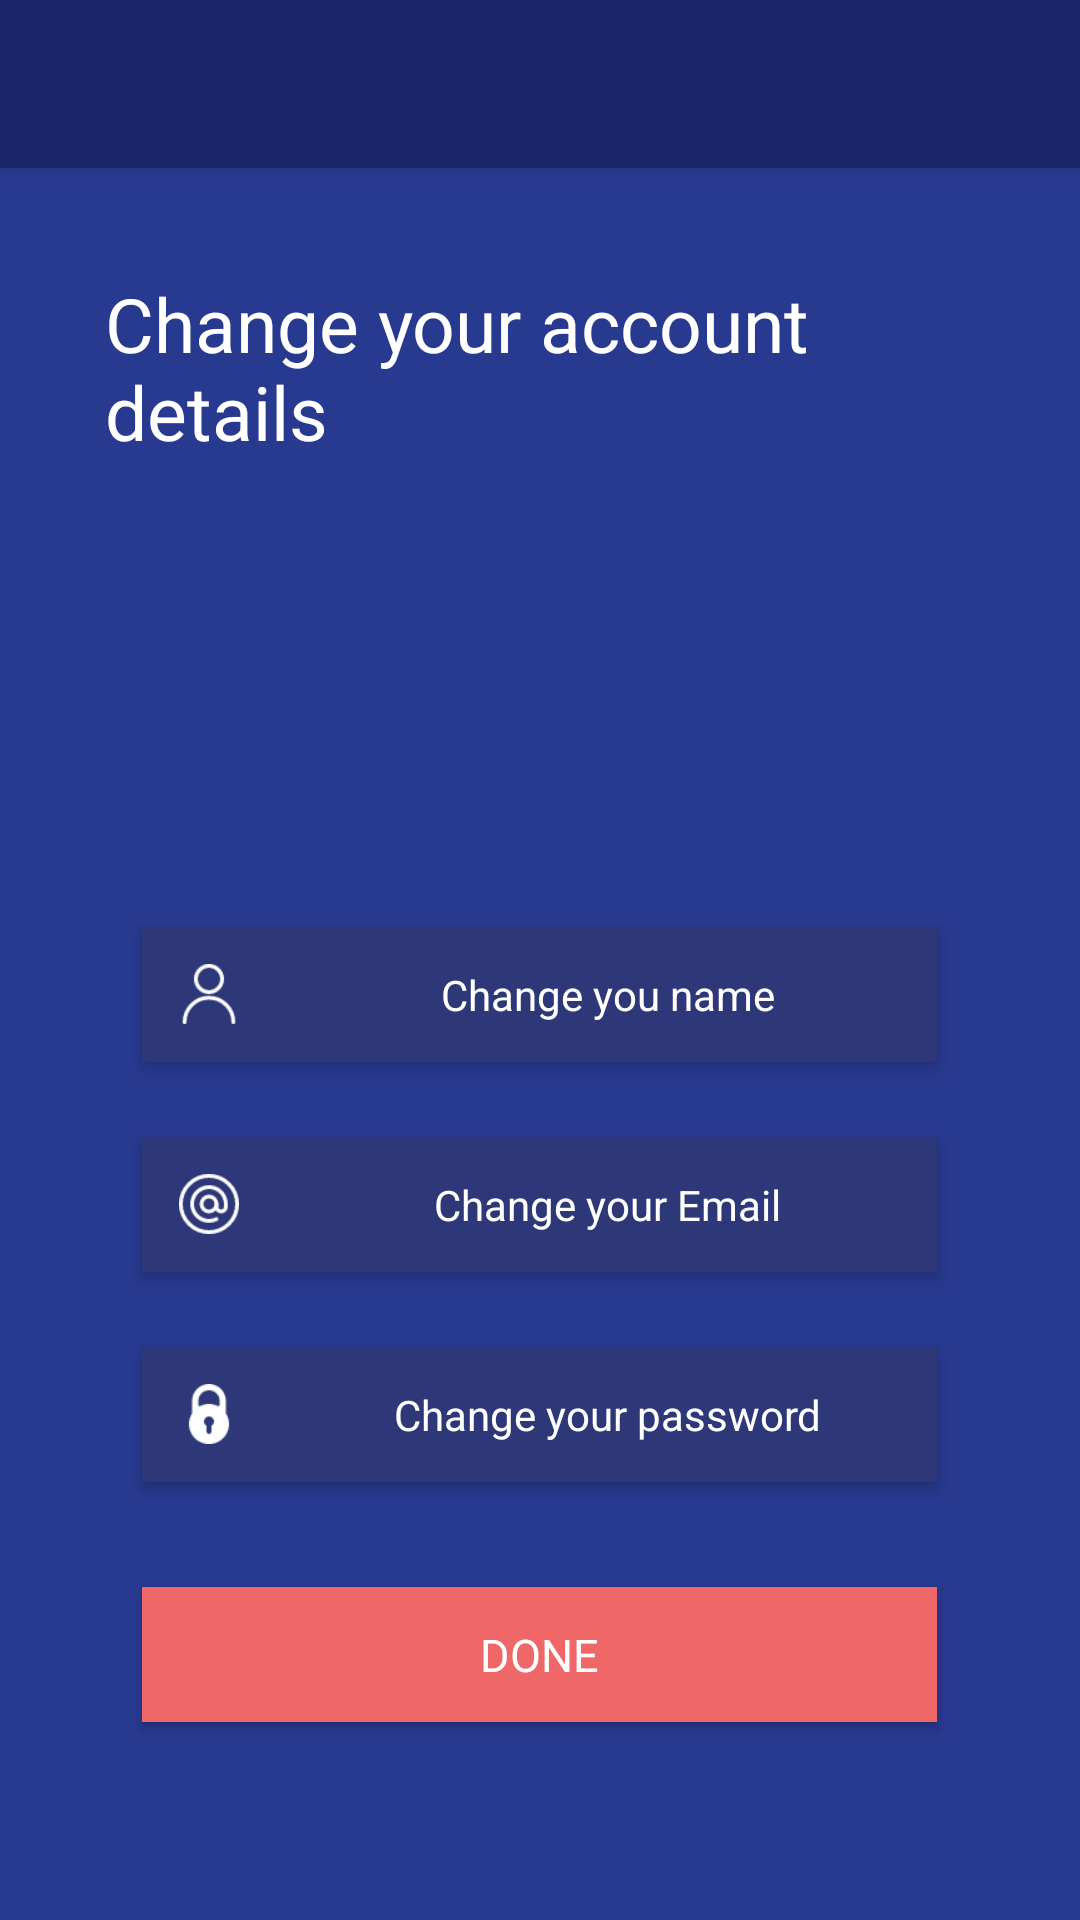

Point at icon controls on the screen. Image size 1080px×1920px, points as point (x, y).
lock: point (209, 1414)
user: point (209, 994)
